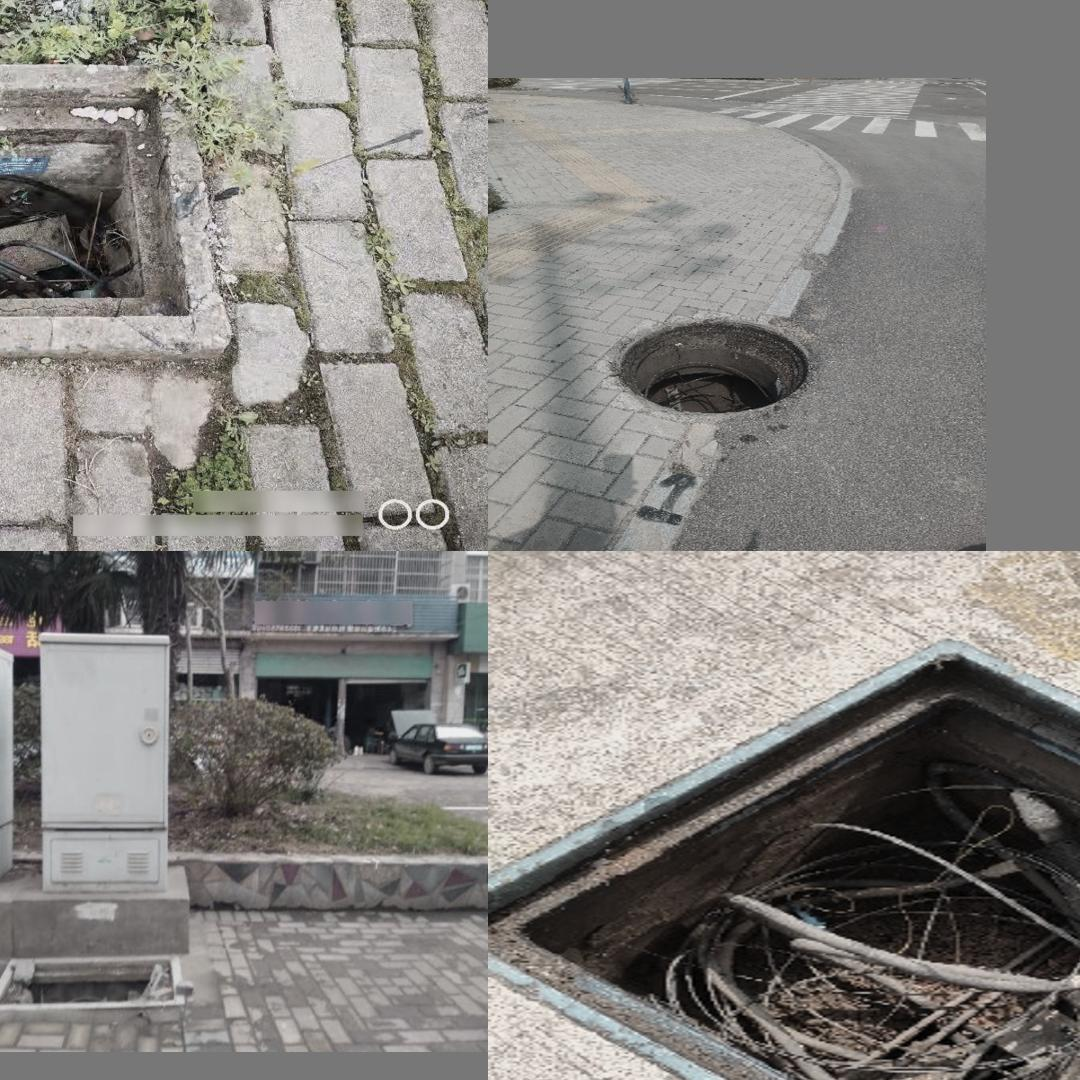lose: (491, 640, 1080, 1080), (0, 58, 228, 357), (612, 317, 814, 415), (0, 950, 184, 1019)
